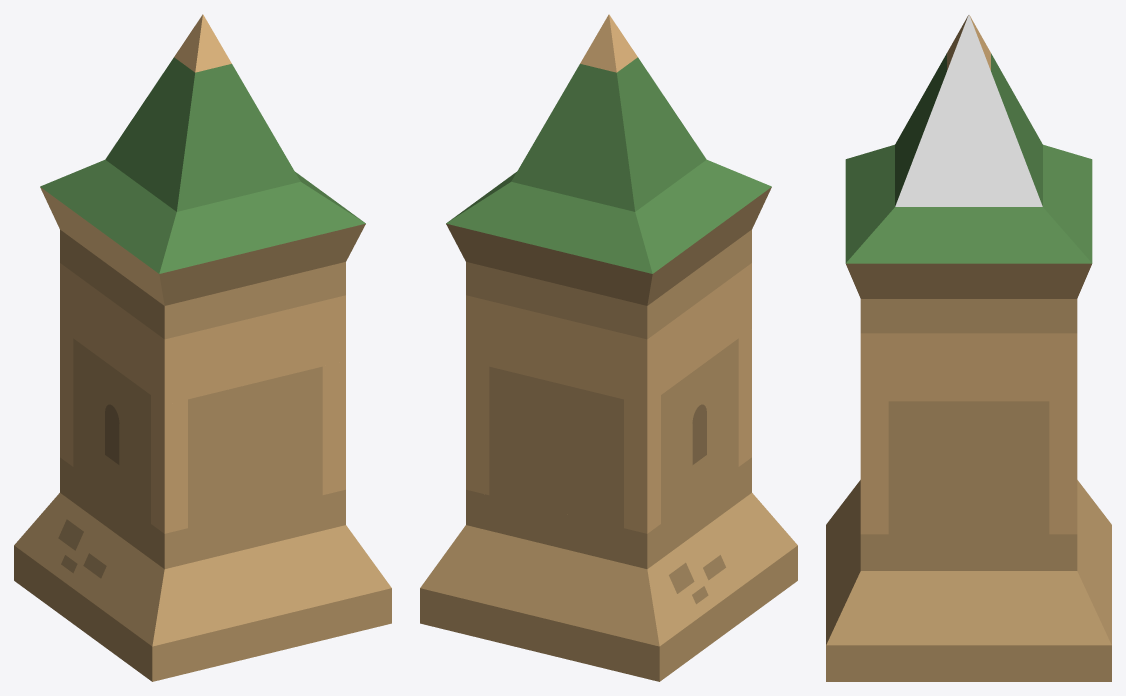
The model's file is MageTower.dae.
The picture shows the model from 3 angles, left to right: view 1: azimuth 30°, elevation 25°; view 2: azimuth 150°, elevation 25°; view 3: azimuth 270°, elevation 25°; orthographic projection. The views are drawn at different scales.
Parts seen in each view (by area): view 1: Group99 (×4), Group18, Group80 (×6); view 2: Group99 (×4), Group18, Group80 (×6); view 3: Group99 (×5), Group18, Group80 (×3).
Part boxes in pixels (box(x1,y1,x2,y2)): Group99 (×4): box(40, 14, 365, 404); Group18: box(14, 457, 391, 681); Group80 (×6): box(60, 329, 345, 533); Group99 (×4): box(446, 14, 771, 404); Group18: box(420, 457, 797, 681); Group80 (×6): box(466, 329, 751, 533); Group99 (×5): box(845, 14, 1092, 401); Group18: box(826, 480, 1111, 681); Group80 (×3): box(860, 401, 1077, 534).
Size of the model in its own units: 30.66 by 30.66 by 71.94.
